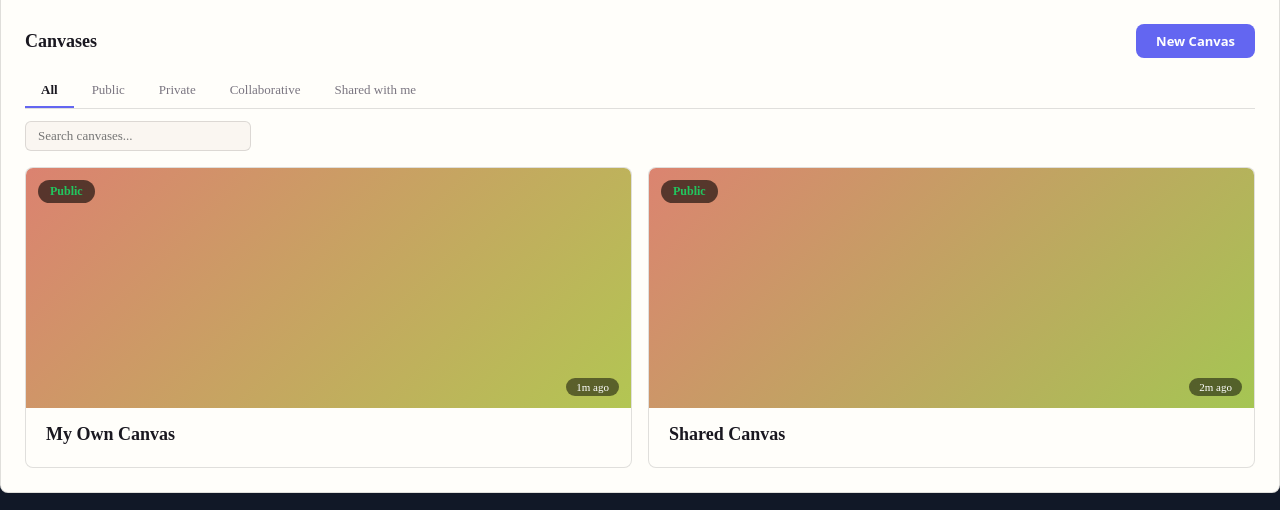
Scenario: CanvasGallerySection › filter tabs › Shared filter shows only shared canvases
Click the button with test id "filter-shared": (375, 91) [318,74,432,108]
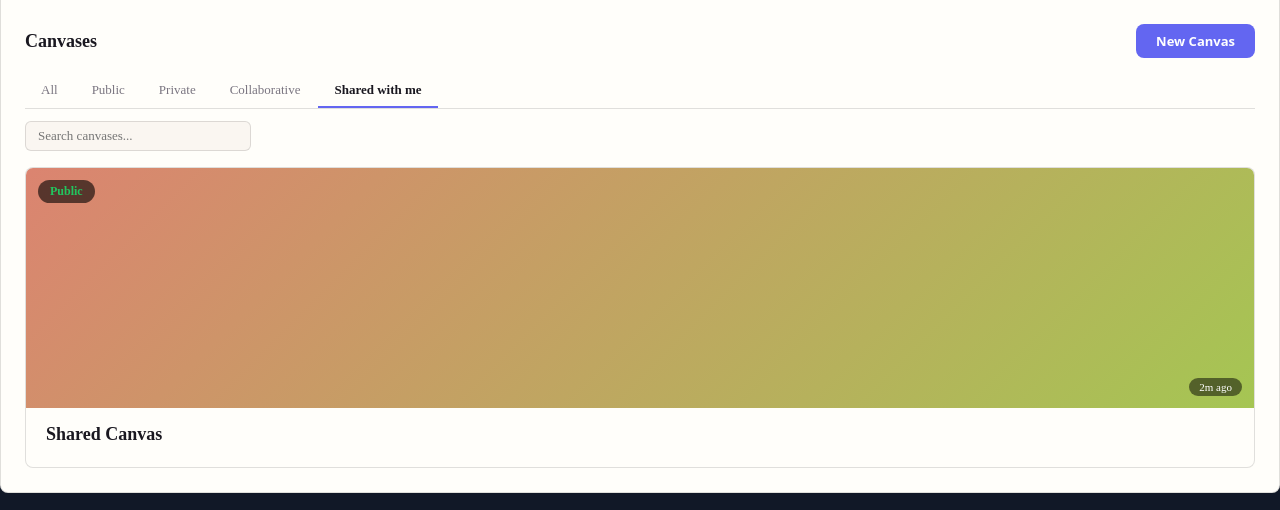
Expected: the text "Shared Canvas" is shown, [46,424,162,444]
Expected: the link "My Own Canvas" is gone
